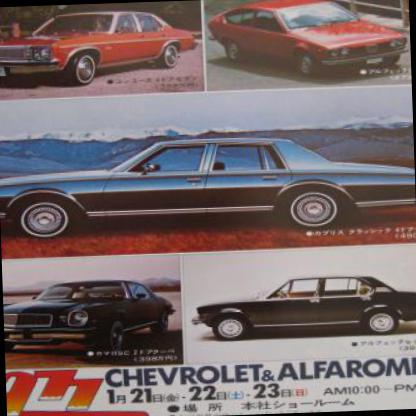car: (0, 114, 413, 251), (202, 0, 411, 83), (0, 8, 199, 90), (189, 272, 415, 343), (2, 270, 179, 358)
